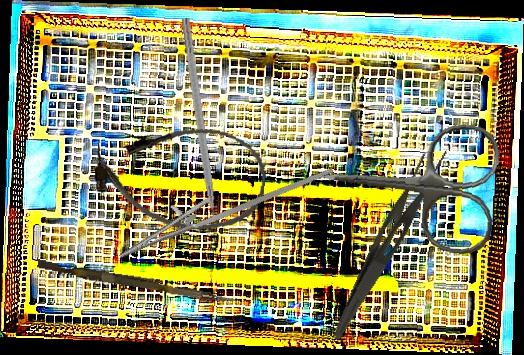Cannula: (89, 115, 271, 238)
Chopper: (169, 17, 221, 241)
Dressing Forceps: (331, 137, 451, 351)
Iris Scissors: (317, 110, 503, 258)
Needle Holder: (110, 128, 334, 284)
Pusher: (36, 259, 238, 305)
